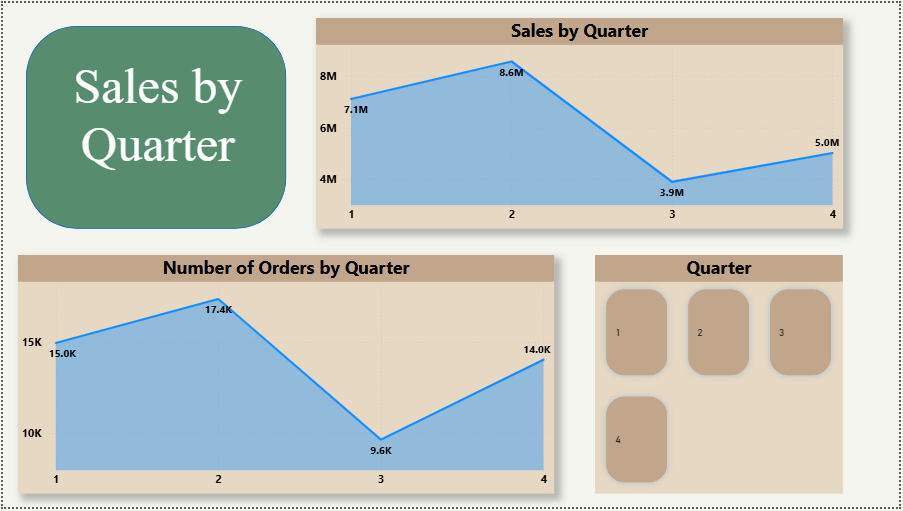

Layout of this report page (visuals, bound fields, positions):
{"tool":"powerbi","page":{"name":"Sales(Quarter)","canvas":[1280,720],"ordinal":2},"visuals":[{"type":"areaChart","title":"Sales by Quarter","fields":{"Category":["SALES.Quarter"],"Y":["Sum(SALES.ProductPrice)"]},"box":[447.1,21.4,752.9,301.4],"z":0},{"type":"shape","box":[32.3,33,371.8,289.6],"z":0,"group":"g1"},{"type":"textbox","box":[65.6,72.3,311.1,214.5],"z":1000,"group":"g1"},{"type":"areaChart","title":"Number of Orders by Quarter","fields":{"Category":["SALES.Quarter"],"Y":["CountNonNull(SALES.OrderID)"]},"box":[21.4,360,765.7,341.4],"z":1000},{"type":"group","id":"g1","title":"Group 1","box":[32.3,33,371.8,289.6],"z":2000},{"type":"advancedSlicerVisual","fields":{"Values":["DATES.Quarter"]},"box":[845.7,360,354.3,341.4],"z":3000}]}

Visuals, with their boxes in screenshot pixels (x1, y1, x2, y2), scaled from the page's 1280x720 canvas onto the 903x511 screenshot:
"Sales by Quarter" areaChart: bbox(315, 15, 847, 229)
shape: bbox(23, 23, 285, 229)
textbox: bbox(46, 51, 266, 204)
"Number of Orders by Quarter" areaChart: bbox(15, 256, 555, 498)
"Group 1" group: bbox(23, 23, 285, 229)
advancedSlicerVisual - DATES.Quarter: bbox(597, 256, 847, 498)
